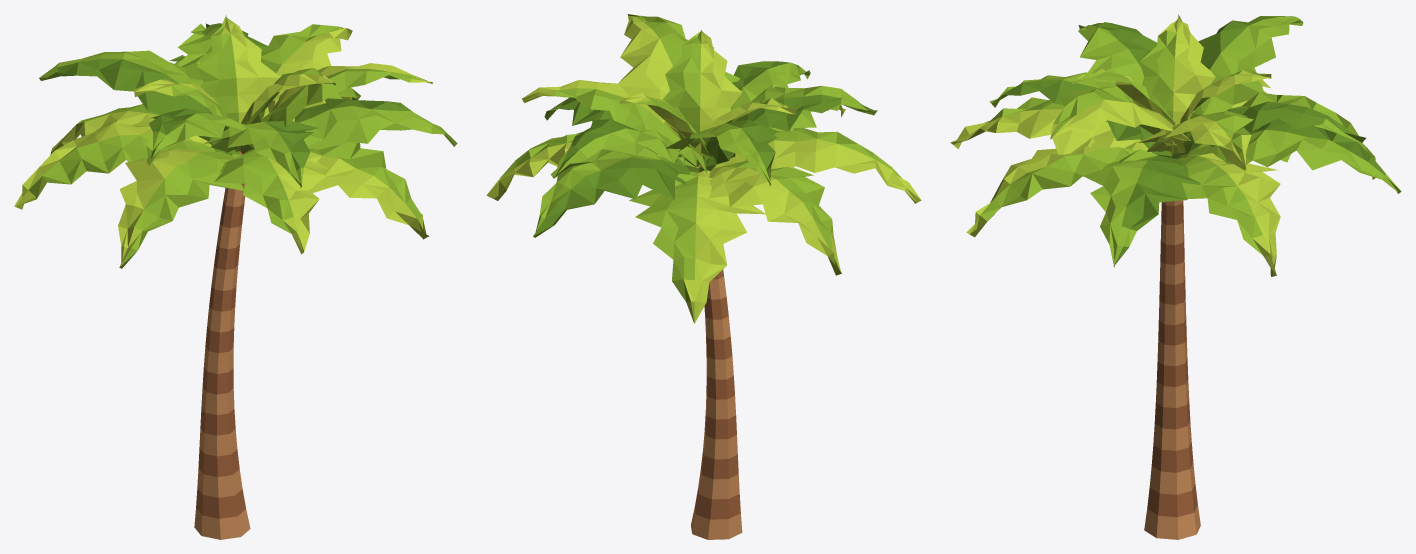
Rendered from nmg_palm_straight.glb.
3 views of the same model, side by side, from view 1: azimuth 30°, elevation 25°; view 2: azimuth 150°, elevation 25°; view 3: azimuth 270°, elevation 25° (orthographic). The views are drawn at different scales.
Parts seen in each view (by area): view 1: nmg_palm_straight; view 2: nmg_palm_straight; view 3: nmg_palm_straight.
Part boxes in pixels (x1,y1,x2,y2): nmg_palm_straight: (14, 15, 457, 539); nmg_palm_straight: (486, 14, 921, 539); nmg_palm_straight: (950, 14, 1401, 539).
Bounding box in the file's own units: 5.09 × 6.06 × 5.14.
